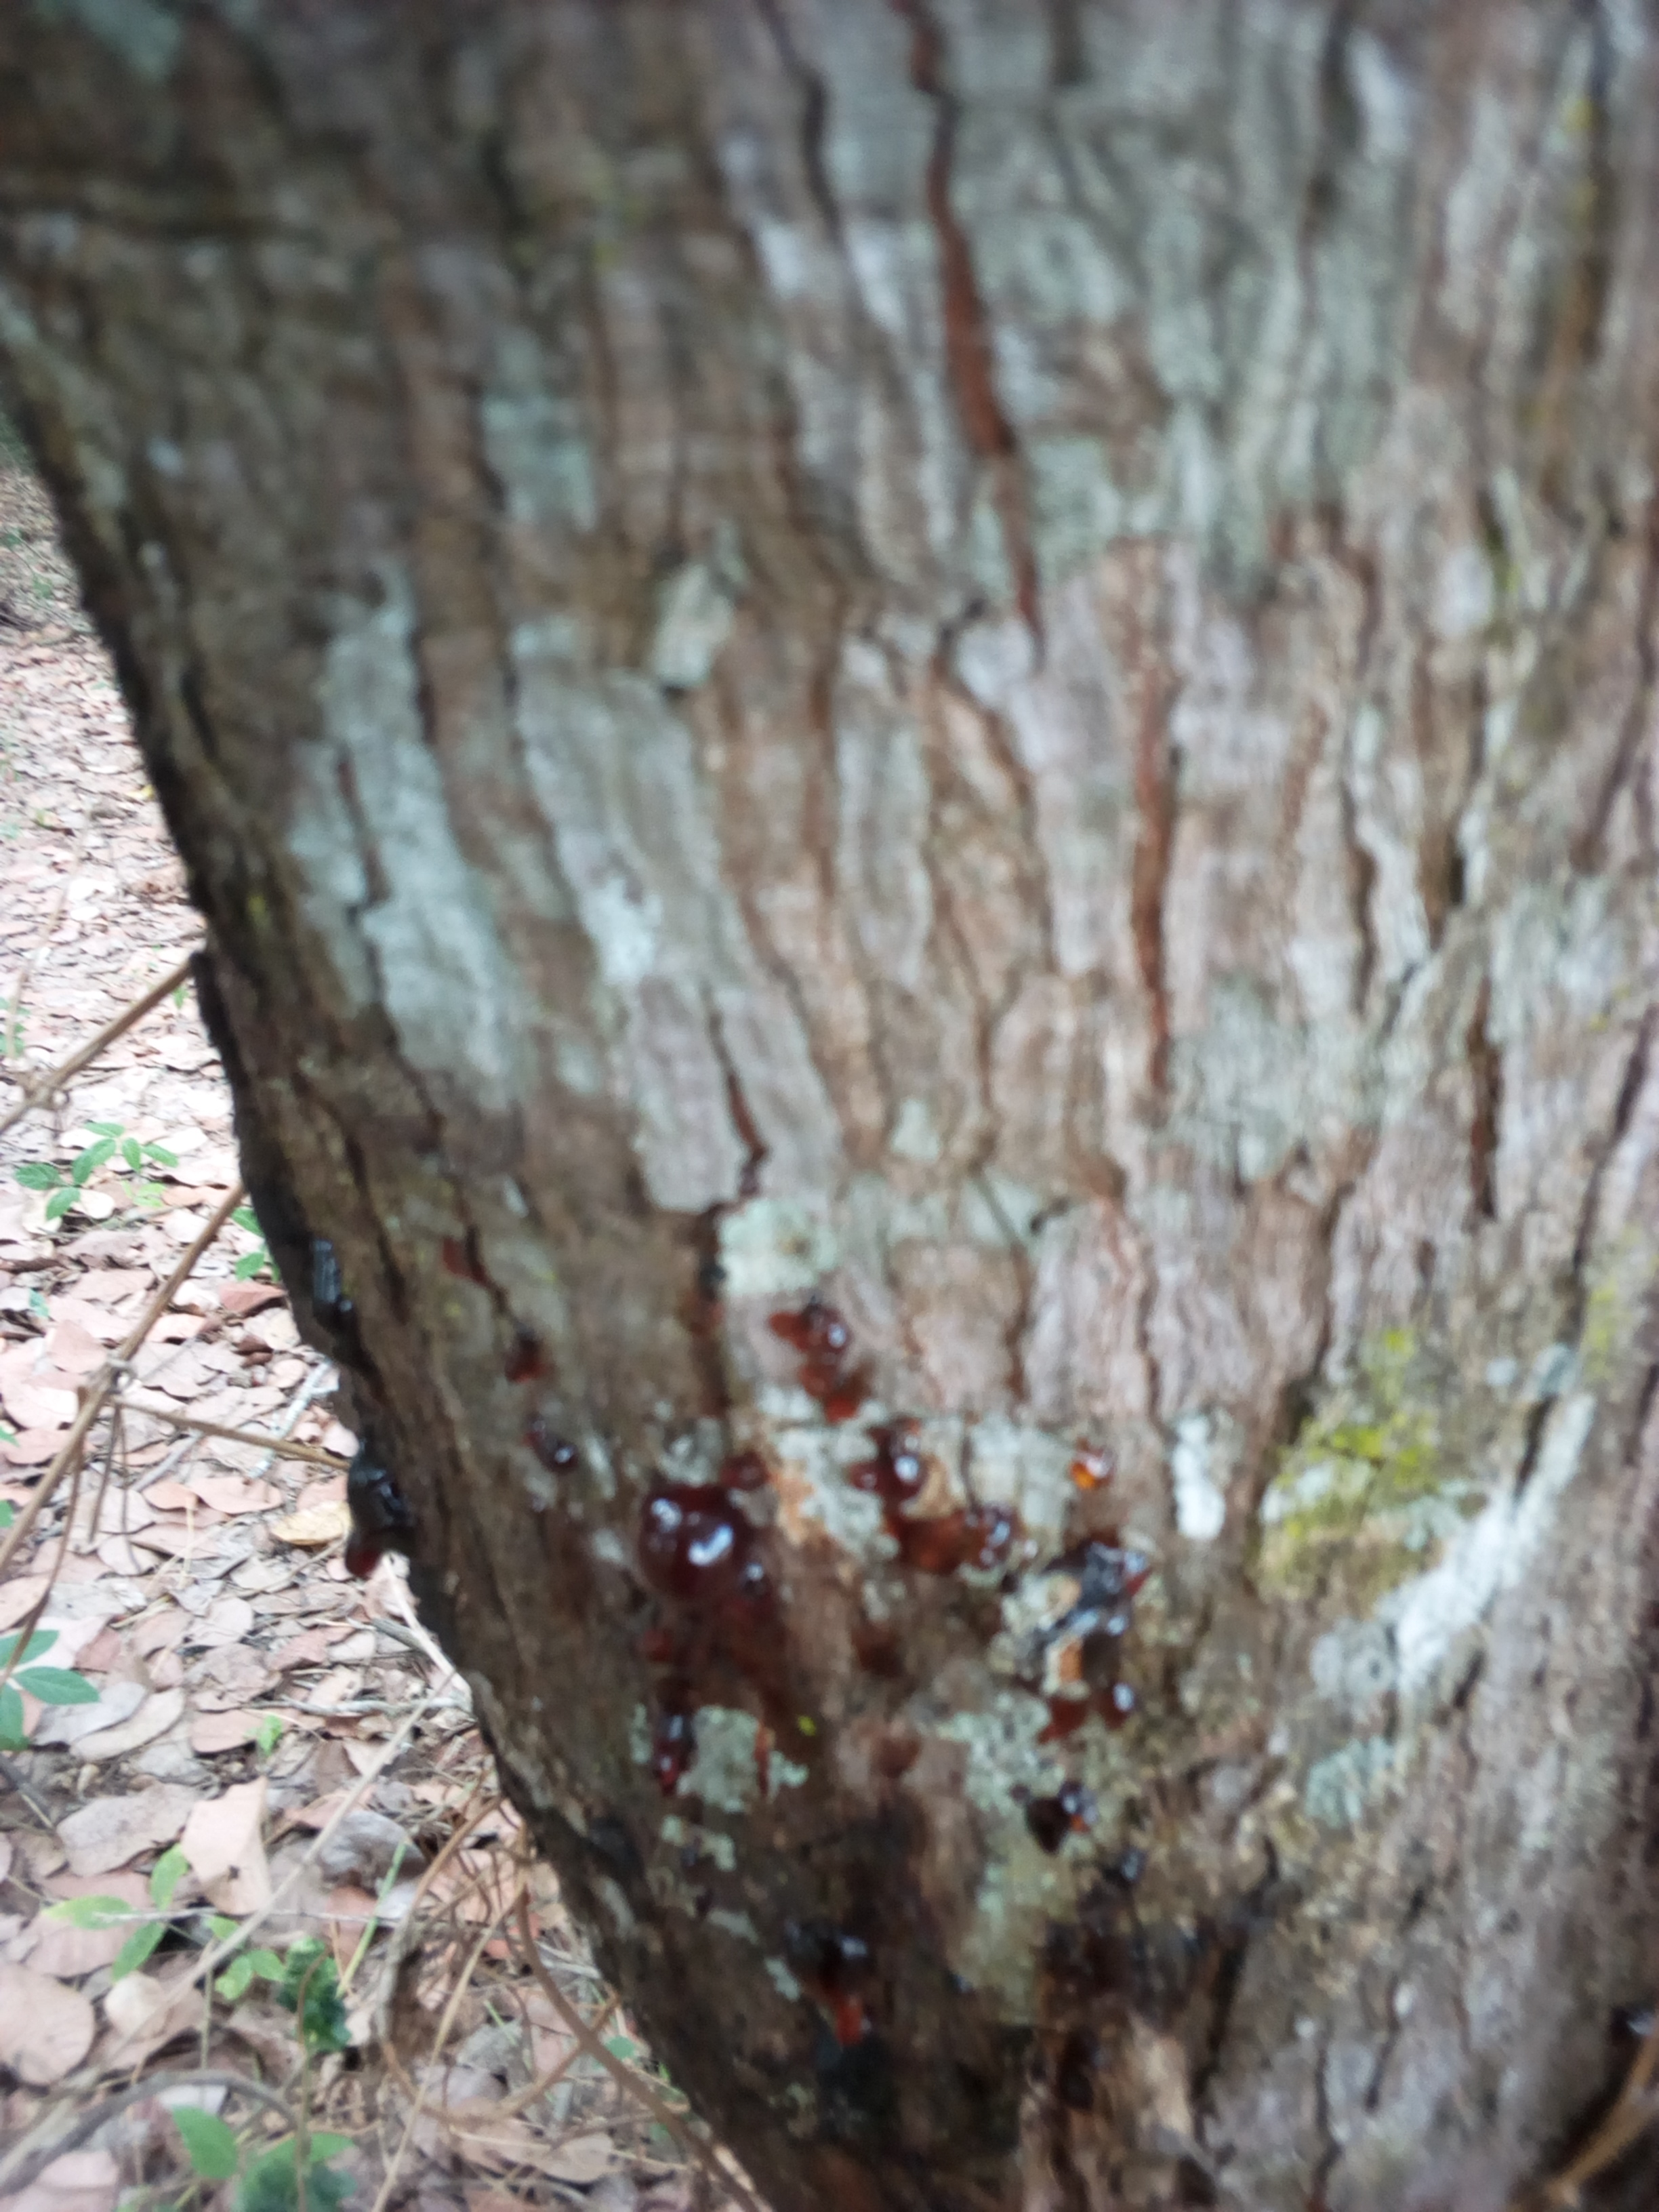Gommose: (497, 1360, 1232, 2130)
